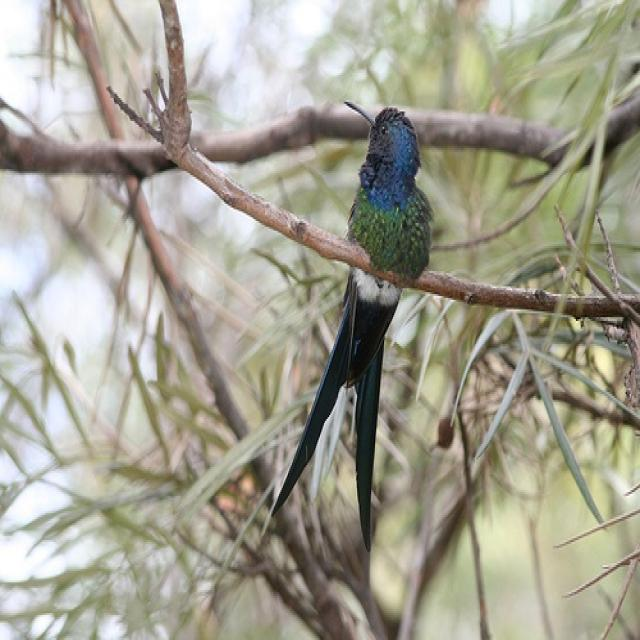bird: (263, 96, 432, 557)
